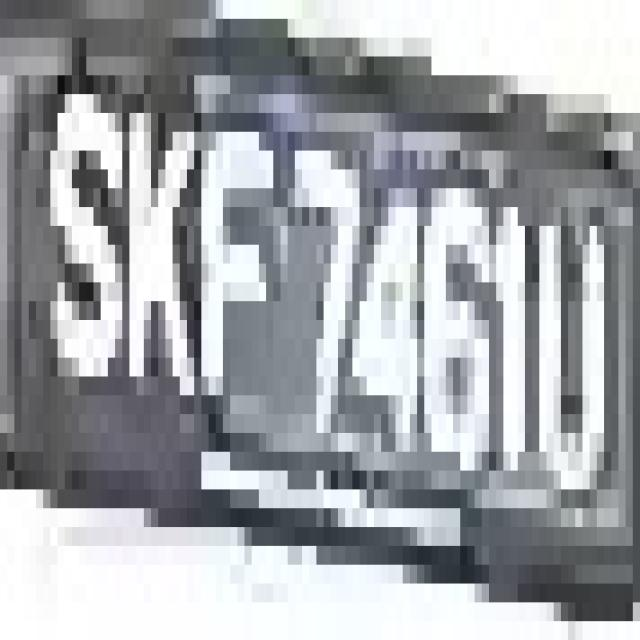1: (489, 151, 532, 527)
4: (352, 132, 432, 508)
6: (410, 132, 482, 527)
7: (273, 94, 367, 452)
F: (194, 94, 281, 452)
K: (108, 38, 194, 414)
S: (36, 19, 122, 414)
U: (525, 150, 618, 490)
